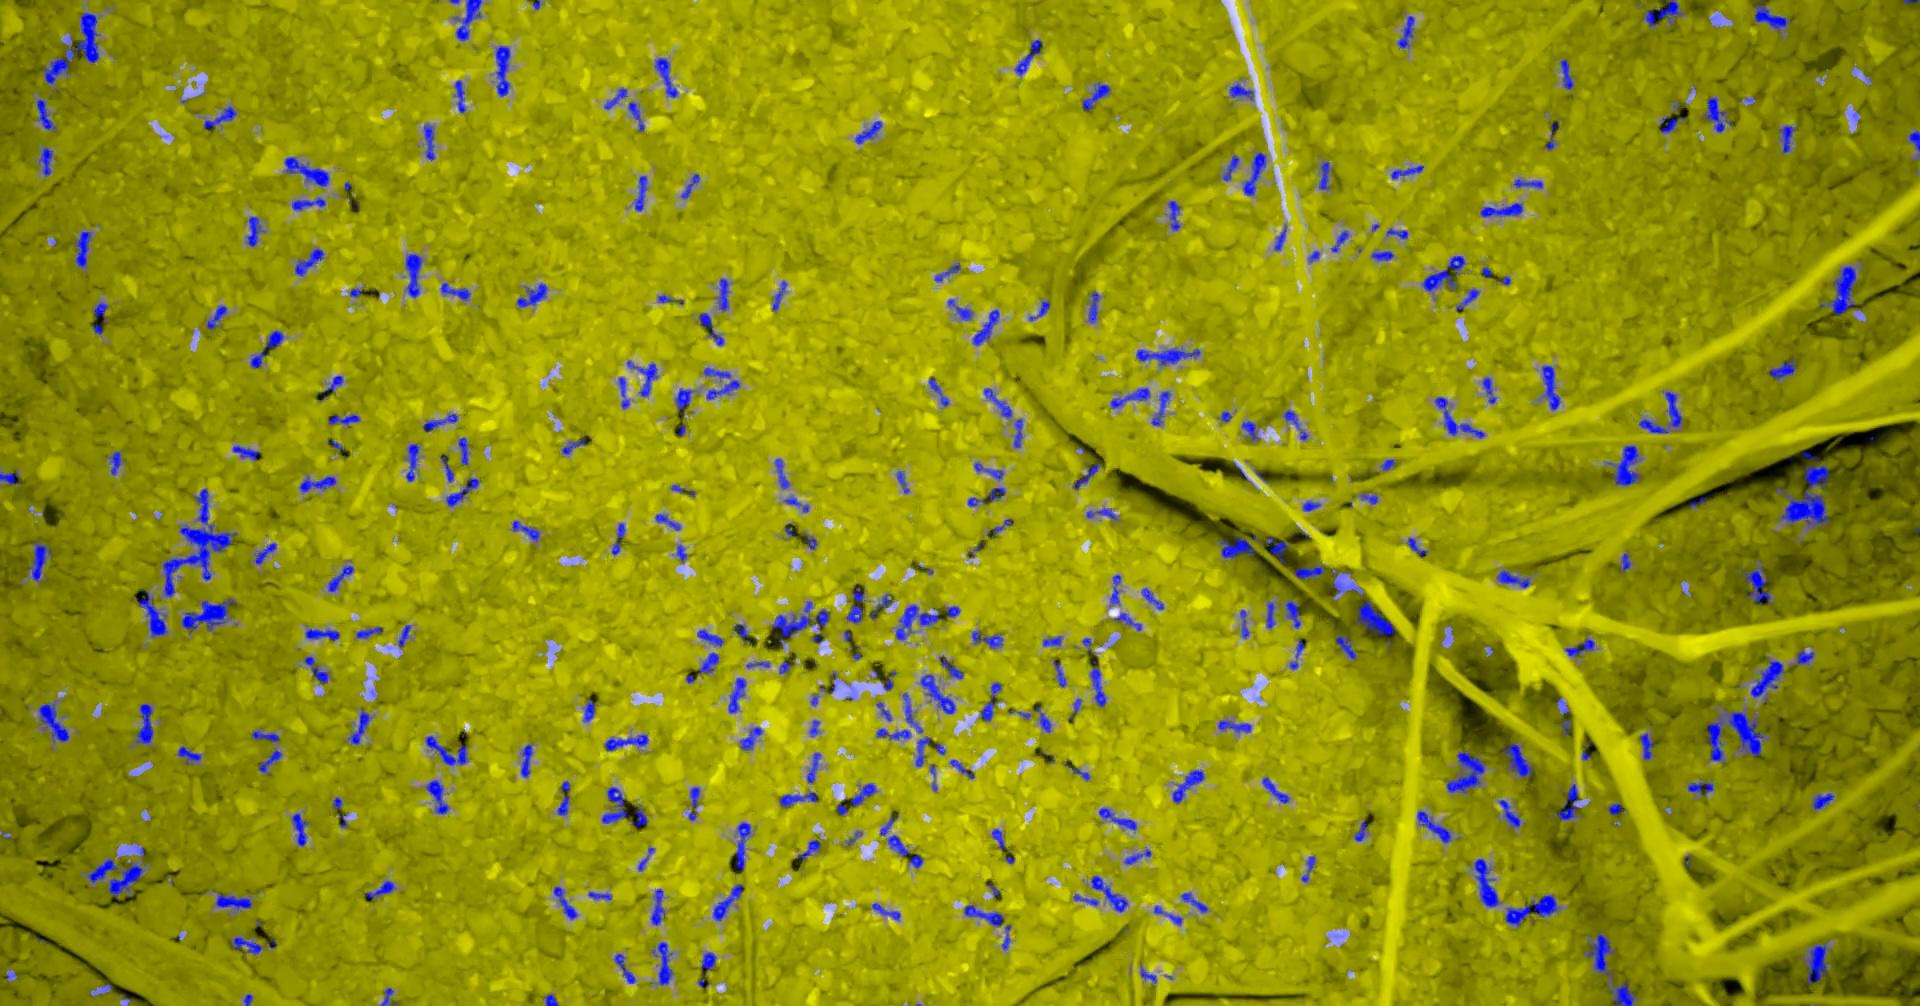ant: (772, 600, 829, 645), (963, 904, 1010, 949), (1434, 396, 1484, 437), (182, 598, 236, 633), (1818, 265, 1855, 314), (1503, 894, 1559, 926), (1446, 749, 1484, 793), (1421, 255, 1465, 291), (135, 589, 168, 636), (895, 605, 938, 639), (1355, 600, 1396, 635), (1606, 445, 1641, 485), (1750, 661, 1783, 702), (919, 674, 955, 713), (1090, 875, 1128, 911), (284, 156, 329, 185), (250, 330, 283, 368), (1473, 857, 1498, 907), (425, 735, 467, 765), (108, 862, 143, 897), (1585, 934, 1613, 977), (38, 702, 69, 741), (453, 0, 481, 41), (1416, 810, 1450, 843), (888, 835, 922, 868), (1135, 347, 1199, 365), (1752, 0, 1789, 30), (626, 359, 657, 396), (1172, 768, 1204, 803), (1743, 565, 1770, 605), (1501, 743, 1531, 777), (1703, 97, 1732, 132), (712, 884, 742, 920), (971, 309, 999, 345), (1242, 151, 1265, 196), (1642, 0, 1681, 25), (444, 478, 480, 506), (601, 786, 627, 823), (1804, 942, 1829, 983), (28, 539, 51, 580), (1015, 39, 1041, 75), (1553, 782, 1578, 819), (654, 57, 677, 97), (651, 941, 672, 984), (1098, 807, 1137, 829), (347, 710, 371, 744), (842, 782, 876, 807), (980, 681, 1001, 721), (1081, 83, 1110, 111), (295, 246, 323, 276), (983, 387, 1011, 417), (1331, 569, 1360, 597), (1219, 535, 1255, 558), (425, 779, 448, 814), (1110, 387, 1149, 408), (902, 692, 922, 732), (203, 105, 236, 130), (698, 312, 723, 345), (734, 822, 750, 870), (552, 887, 577, 920), (495, 44, 510, 97), (1542, 365, 1559, 409), (516, 282, 546, 307), (86, 857, 117, 883), (1283, 409, 1307, 439), (405, 253, 422, 297), (135, 702, 152, 743), (1072, 462, 1098, 489), (968, 486, 1004, 506), (1090, 661, 1105, 706), (1262, 776, 1288, 803), (303, 655, 328, 683), (1608, 981, 1636, 1005), (706, 379, 739, 399), (604, 734, 648, 749), (613, 953, 635, 983), (846, 586, 863, 622), (697, 951, 715, 988), (1150, 391, 1170, 426), (328, 565, 353, 591), (855, 119, 881, 144), (1481, 202, 1523, 217), (74, 231, 91, 267), (1663, 391, 1681, 427), (422, 413, 457, 431), (728, 677, 745, 713), (36, 98, 55, 131), (316, 375, 342, 399), (1265, 536, 1288, 563), (1496, 569, 1530, 587), (291, 812, 309, 846), (298, 475, 335, 492), (215, 893, 251, 909), (510, 520, 538, 541), (928, 377, 949, 406), (1397, 15, 1415, 48), (869, 593, 891, 619), (778, 791, 817, 807), (364, 880, 395, 899), (1768, 358, 1796, 379), (1498, 799, 1519, 827), (1180, 892, 1208, 912), (230, 936, 262, 954), (1153, 904, 1182, 923), (938, 655, 963, 678), (245, 216, 263, 246), (439, 282, 470, 300), (973, 461, 1003, 479), (971, 630, 1002, 648), (405, 443, 419, 481), (258, 749, 281, 772), (603, 88, 627, 109), (947, 298, 971, 320), (1335, 635, 1356, 659), (796, 840, 820, 861), (1112, 612, 1142, 630), (1564, 638, 1594, 655), (871, 902, 900, 920), (650, 888, 664, 925), (1289, 639, 1305, 669), (1778, 124, 1796, 152), (1034, 704, 1051, 732), (739, 727, 761, 749), (1455, 288, 1479, 309), (206, 305, 226, 329), (1293, 565, 1324, 580), (949, 760, 974, 779), (254, 542, 276, 564), (1142, 587, 1163, 608), (1638, 418, 1669, 433), (1284, 600, 1300, 627), (681, 173, 698, 198), (634, 175, 646, 211), (697, 629, 723, 647), (556, 780, 569, 815), (697, 652, 717, 673), (291, 197, 325, 210), (305, 627, 339, 640), (935, 263, 959, 281), (177, 746, 201, 763), (1559, 58, 1573, 89), (772, 279, 786, 310), (916, 735, 930, 766), (806, 752, 820, 782), (1123, 848, 1150, 864), (423, 123, 434, 160), (1222, 155, 1238, 180), (1390, 165, 1423, 178), (676, 387, 692, 413), (655, 513, 681, 530), (1029, 300, 1049, 320), (1330, 230, 1349, 251), (629, 102, 643, 131), (775, 459, 789, 488), (1639, 733, 1655, 760), (1300, 855, 1316, 882), (611, 522, 623, 554), (1229, 83, 1253, 99), (1658, 116, 1683, 132), (637, 847, 654, 871), (876, 728, 910, 739), (38, 147, 52, 175), (1167, 199, 1180, 230), (1086, 507, 1116, 520), (988, 520, 1013, 535), (328, 414, 361, 426), (1217, 720, 1250, 732), (521, 744, 532, 777), (1811, 793, 1834, 809), (232, 445, 259, 459), (439, 455, 453, 481), (783, 495, 808, 511), (1407, 537, 1426, 556), (1109, 574, 1120, 606), (1241, 420, 1258, 441), (733, 622, 750, 643), (1545, 121, 1558, 149), (1272, 225, 1286, 250), (1481, 377, 1495, 403), (1053, 659, 1065, 687), (1688, 781, 1713, 795), (688, 786, 698, 821), (630, 807, 648, 826), (879, 815, 897, 835), (561, 439, 585, 453), (105, 451, 119, 475), (455, 80, 465, 112), (717, 278, 728, 310), (1088, 291, 1098, 323), (618, 376, 629, 408), (1318, 161, 1330, 189), (91, 302, 107, 323), (990, 828, 1006, 848), (703, 367, 730, 379), (356, 626, 382, 638), (1512, 178, 1542, 188), (1239, 608, 1250, 638), (897, 470, 909, 493), (397, 624, 410, 647), (582, 699, 594, 721), (876, 701, 891, 720), (1073, 893, 1098, 904), (1909, 130, 1919, 158), (0, 471, 22, 484), (1796, 649, 1813, 664), (251, 730, 278, 741), (1140, 965, 1156, 983), (1013, 418, 1022, 447), (1354, 821, 1366, 841), (458, 437, 467, 464), (1266, 601, 1275, 627), (380, 987, 392, 1005), (1385, 227, 1407, 238), (1619, 553, 1630, 572), (1370, 251, 1393, 260), (657, 295, 683, 302), (588, 890, 611, 899), (1689, 495, 1704, 508), (1302, 500, 1321, 511), (1043, 635, 1062, 645), (1360, 493, 1377, 504), (1608, 803, 1624, 814), (676, 544, 686, 561), (1380, 459, 1396, 470), (805, 533, 817, 549), (809, 719, 819, 735), (1559, 719, 1570, 735), (543, 993, 557, 1005), (946, 605, 959, 616)
